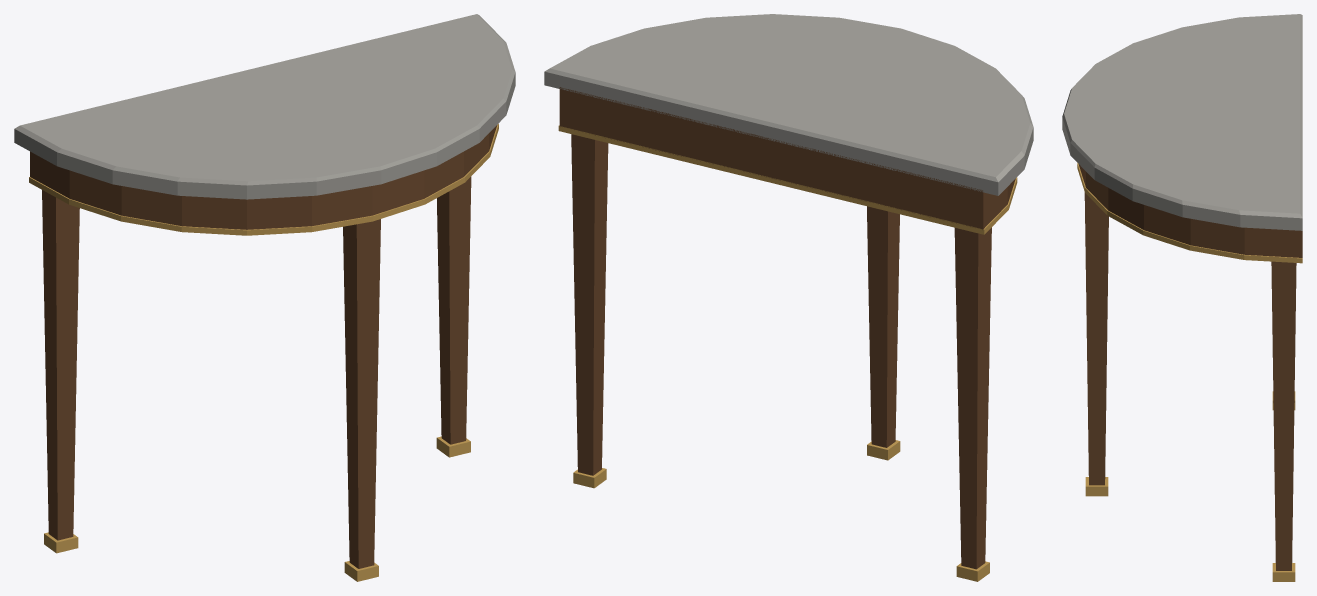
The model's file is FN_Table_Demilune.obj.
3 views of the same model, side by side, from view 1: azimuth 30°, elevation 25°; view 2: azimuth 150°, elevation 25°; view 3: azimuth 270°, elevation 25° (orthographic). The views are drawn at different scales.
Visible parts, largest first — view 1: FN_Table_Demilune; view 2: FN_Table_Demilune; view 3: FN_Table_Demilune.
Part boxes in pixels (bbox=[...]): FN_Table_Demilune: bbox=[14, 14, 515, 581]; FN_Table_Demilune: bbox=[544, 14, 1033, 581]; FN_Table_Demilune: bbox=[1062, 14, 1302, 581].
Bounding box in the file's own units: 0.9 × 0.78 × 0.45.
Materials: 1 (1 with a texture image).
